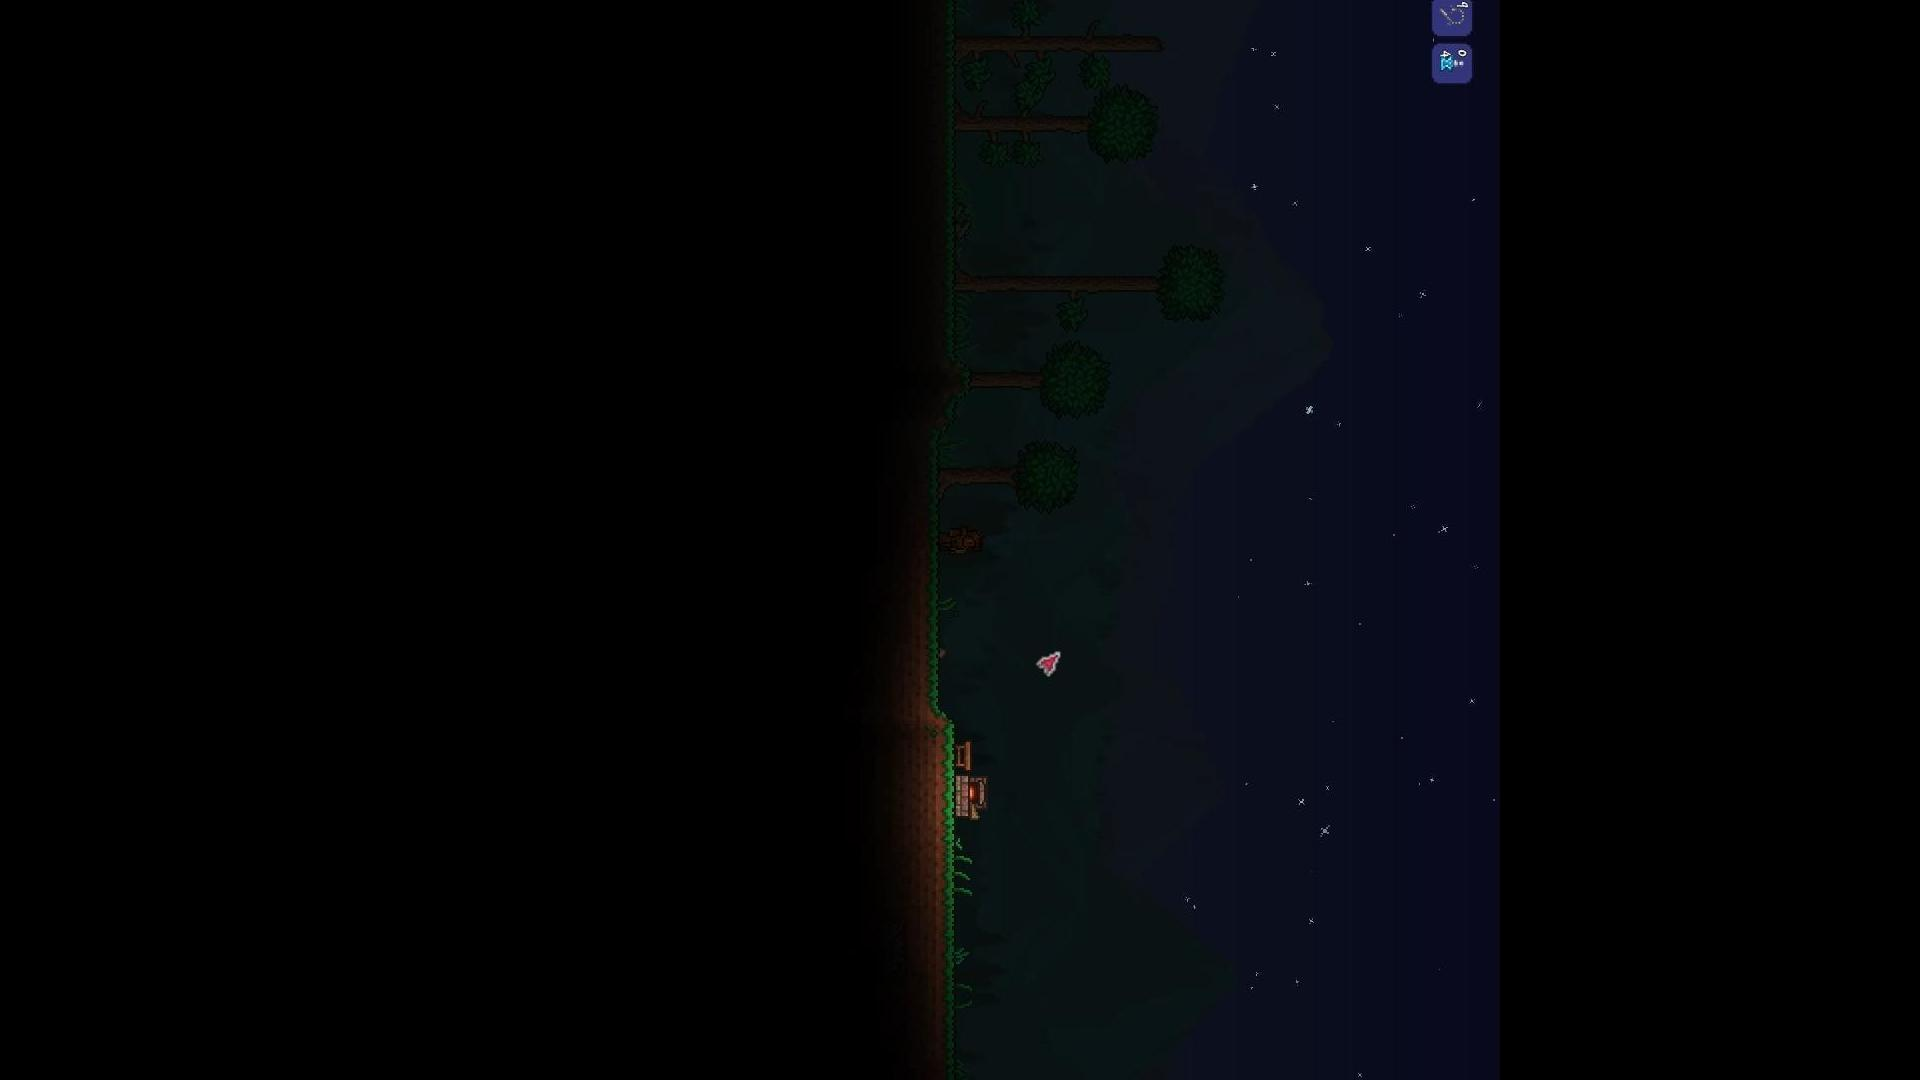furnace: (953, 774, 992, 823)
